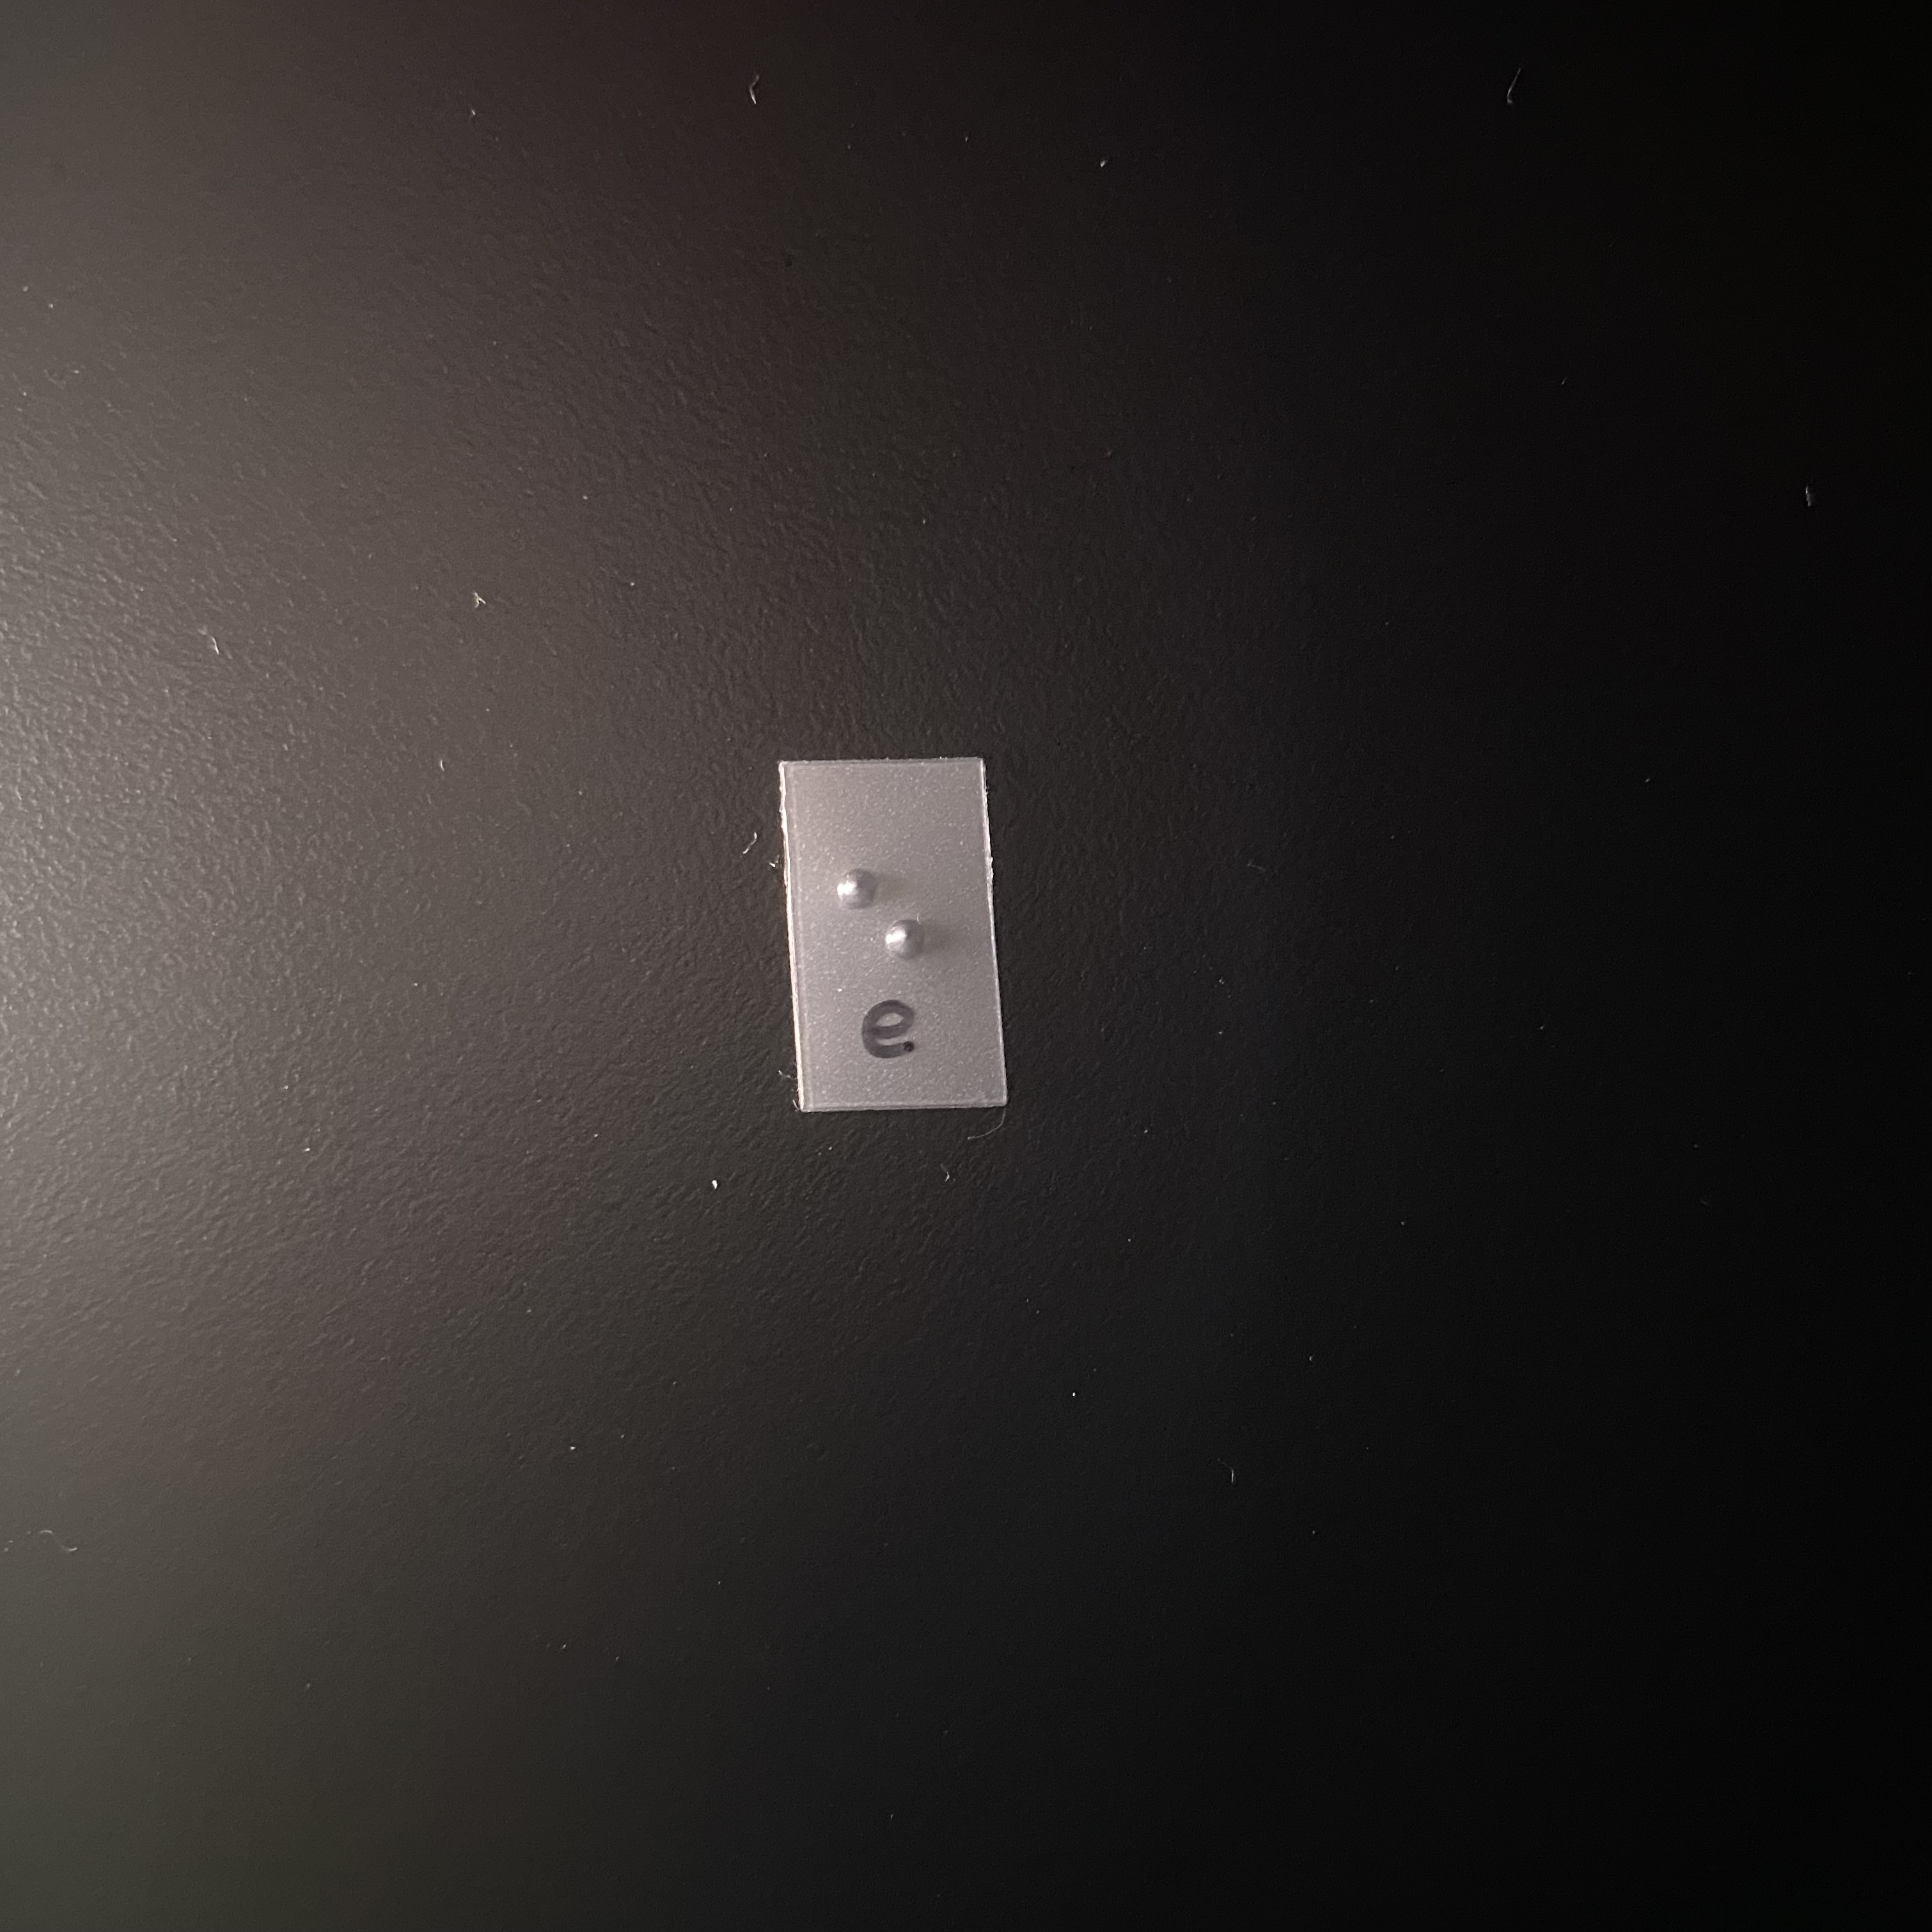e: (827, 832, 937, 1051)
